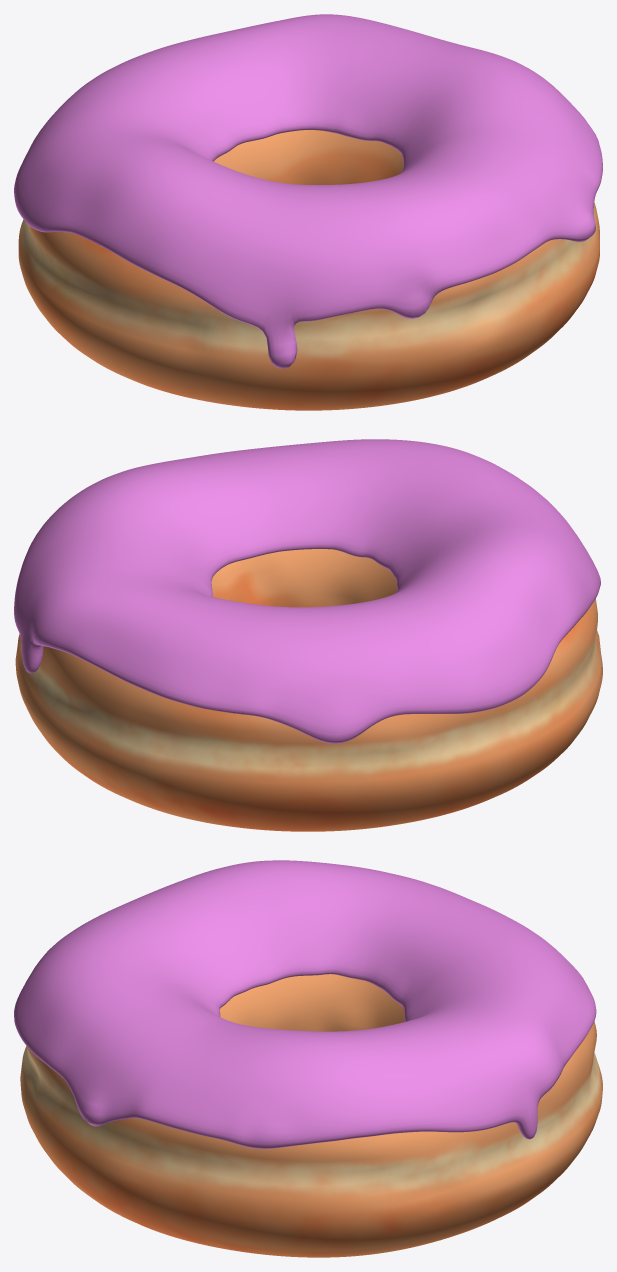
Rendered from donotdodis.gltf.
3 renders of one model, top to bottom at view 1: azimuth 30°, elevation 25°; view 2: azimuth 150°, elevation 25°; view 3: azimuth 270°, elevation 25°, orthographic.
Visible parts, largest first — view 1: Icing.001, Donotdothis.001; view 2: Icing.001, Donotdothis.001; view 3: Icing.001, Donotdothis.001.
Boxes of the visible parts, x1,y1,x2,y2 form: Icing.001: (14,14,602,368); Donotdothis.001: (18,130,599,410); Icing.001: (14,439,600,743); Donotdothis.001: (15,549,602,831); Icing.001: (14,860,596,1148); Donotdothis.001: (20,974,602,1257).
Size of what is drawn, in the model's own units: 0.4879 by 0.1996 by 0.4917.
2 materials, 1 textured.
